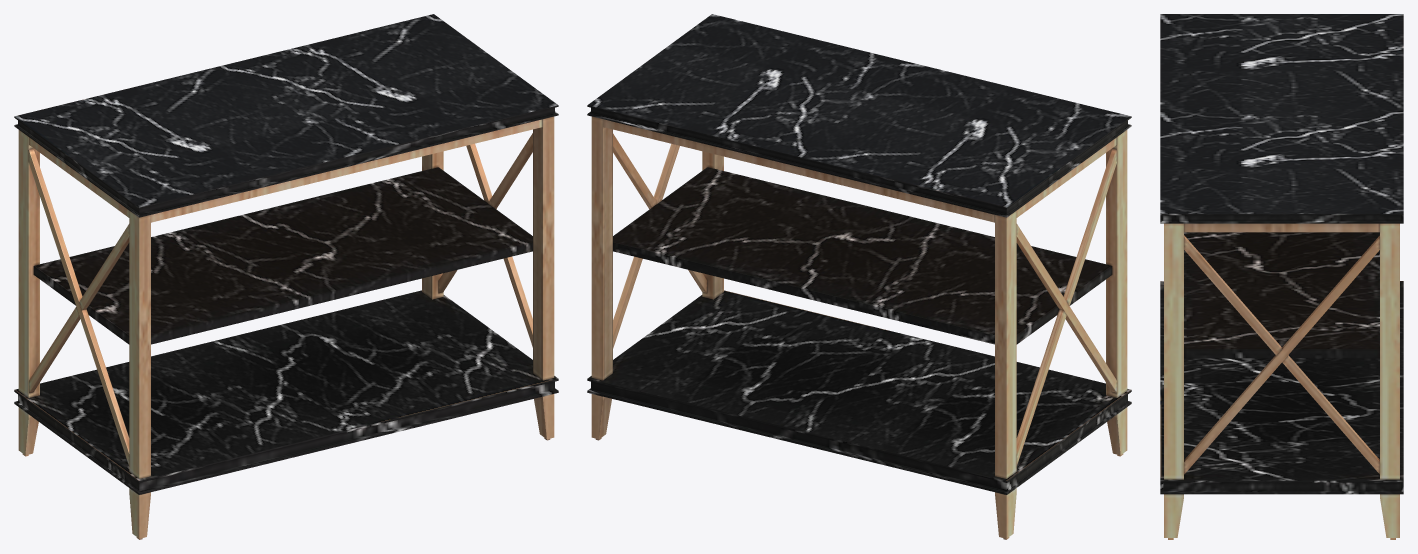
The model's file is Sannois Console Table.fbx.
The picture shows the model from 3 angles, left to right: view 1: azimuth 30°, elevation 25°; view 2: azimuth 150°, elevation 25°; view 3: azimuth 270°, elevation 25°; orthographic projection. The views are drawn at different scales.
Visible parts, largest first — view 1: Sannois Console Table; view 2: Sannois Console Table; view 3: Sannois Console Table.
Boxes of the visible parts, bbox=[...] form: Sannois Console Table: bbox=[14, 14, 558, 539]; Sannois Console Table: bbox=[587, 14, 1131, 539]; Sannois Console Table: bbox=[1160, 14, 1403, 539].
Bounding box in the file's own units: 1.16 × 0.8917 × 0.5995.
